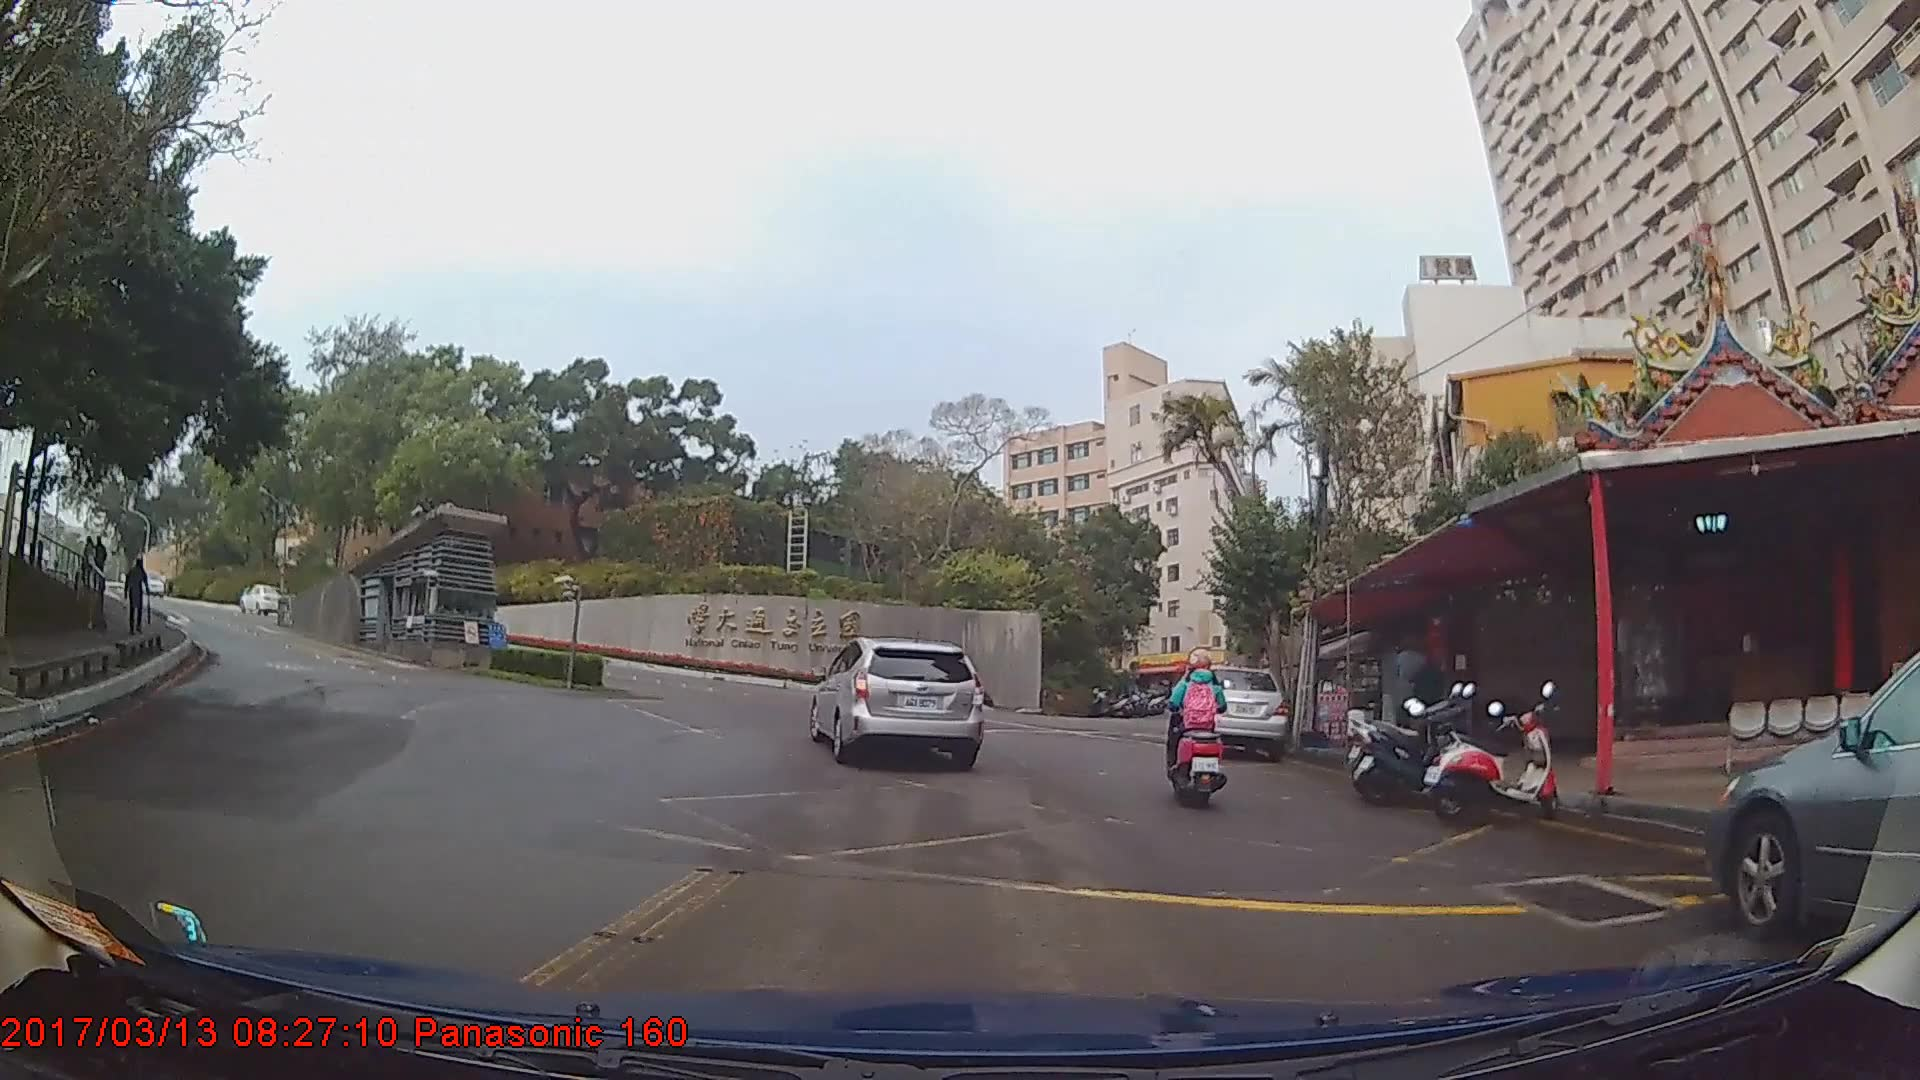pedestrian: (1408, 643, 1449, 751), (123, 560, 152, 637), (79, 537, 100, 597), (91, 538, 111, 594)
rider: (1159, 651, 1235, 814)
vehicle: (1714, 662, 1920, 944), (808, 636, 982, 770), (1171, 663, 1290, 760), (241, 587, 281, 617), (130, 568, 166, 598)
